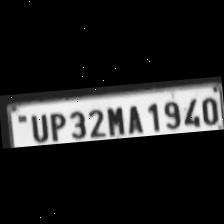0: (196, 93, 220, 126)
1: (142, 98, 162, 131)
2: (84, 104, 106, 138)
3: (65, 106, 87, 140)
4: (179, 93, 201, 127)
9: (159, 96, 182, 130)
A: (123, 100, 146, 134)
M: (103, 102, 126, 136)
P: (45, 108, 67, 142)
U: (27, 110, 50, 143)
